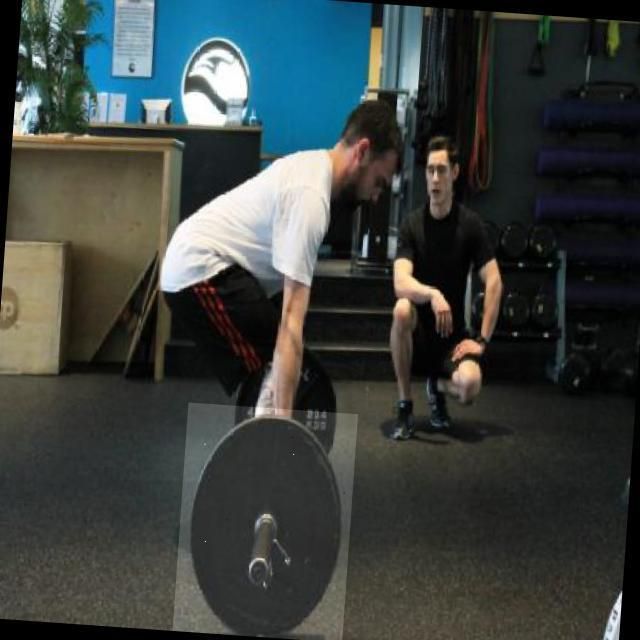barbell: (173, 403, 358, 640)
